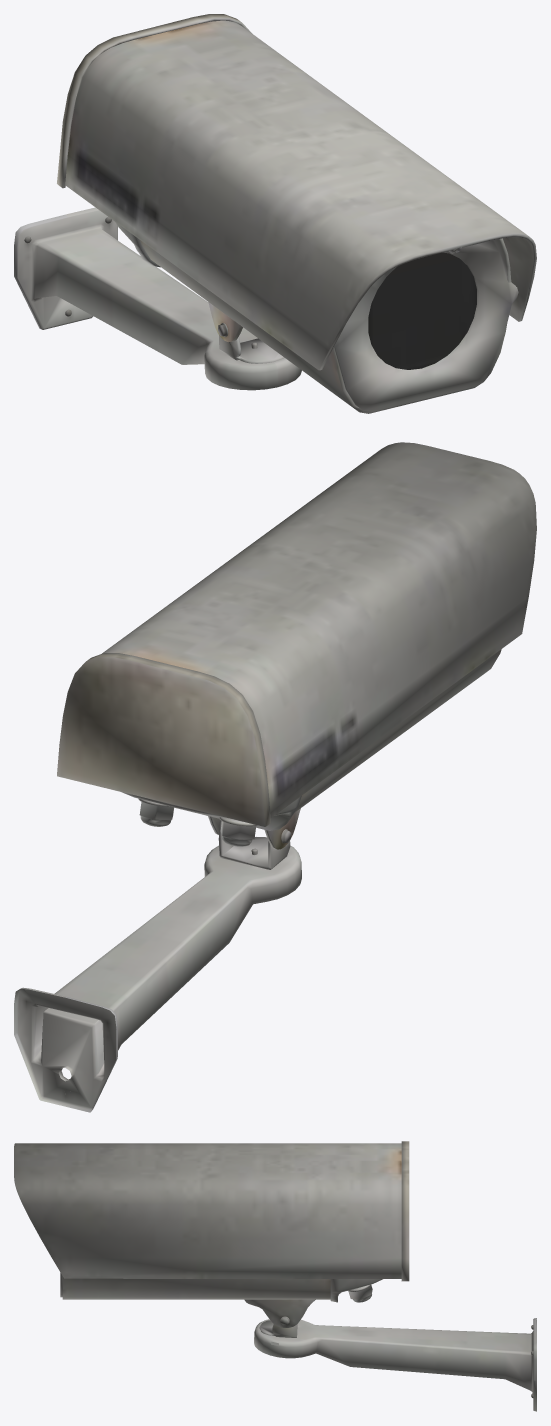
File: security_camera_01.glb
3 views of the same model, one above another, from view 1: azimuth 30°, elevation 25°; view 2: azimuth 150°, elevation 25°; view 3: azimuth 270°, elevation 25° (orthographic). The views are drawn at different scales.
Visible parts, largest first — view 1: security_camera_01; view 2: security_camera_01; view 3: security_camera_01.
Part boxes in pixels (<box>): security_camera_01: <box>14,14,536,413</box>; security_camera_01: <box>14,442,536,1112</box>; security_camera_01: <box>14,1141,536,1411</box>.
Size of the model in its own units: 0.1695 by 0.2861 by 0.5537.
Materials: 2 (2 with a texture image).
